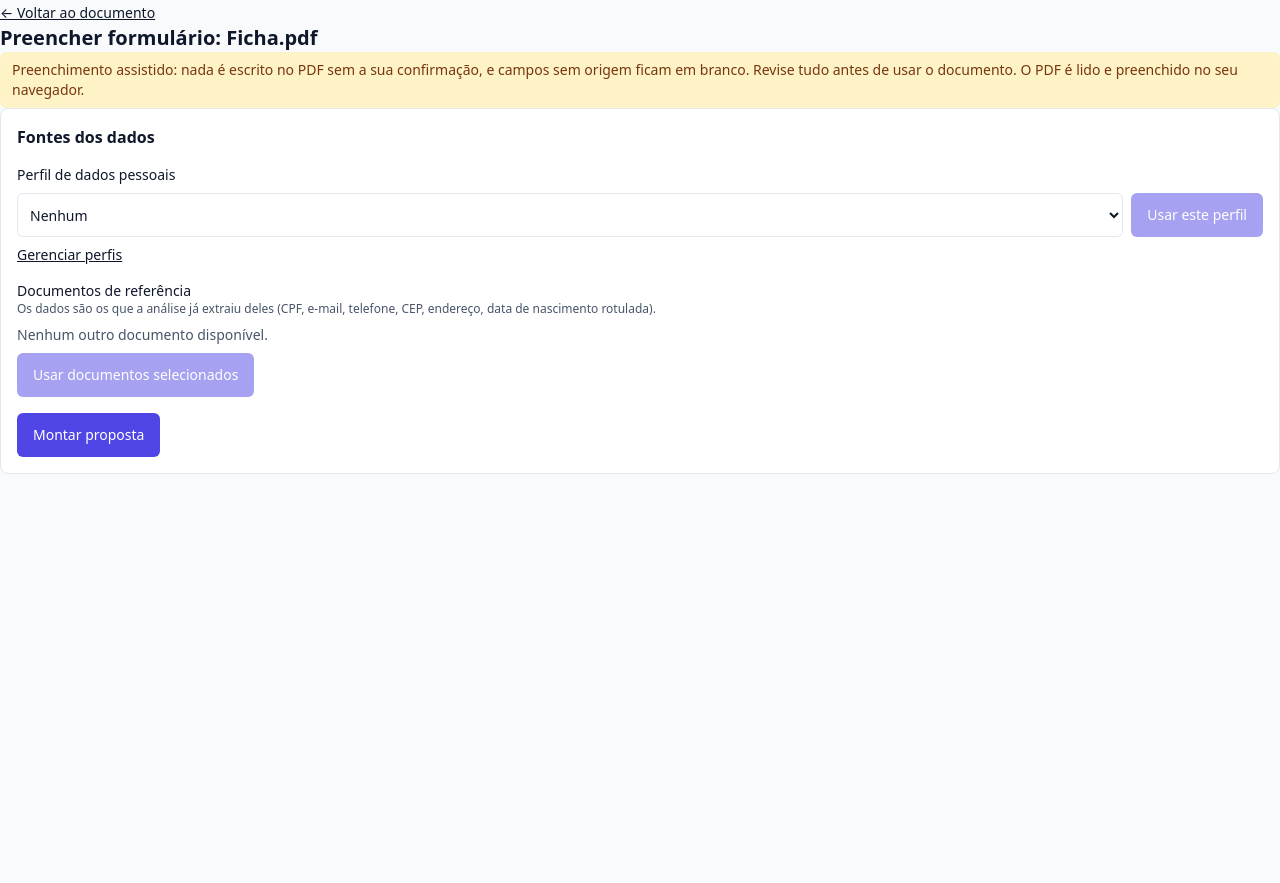
Test: FillFormPage › digitar um valor inválido não confirma; válido entra com origem manual
The image size is (1280, 883).
Expected: the heading "Fontes dos dados" is shown, [17,126,155,148]
Select "Pessoal" in the dropdown labelled "Perfil de dados pessoais" at (570, 215), box [17,193,1123,237]
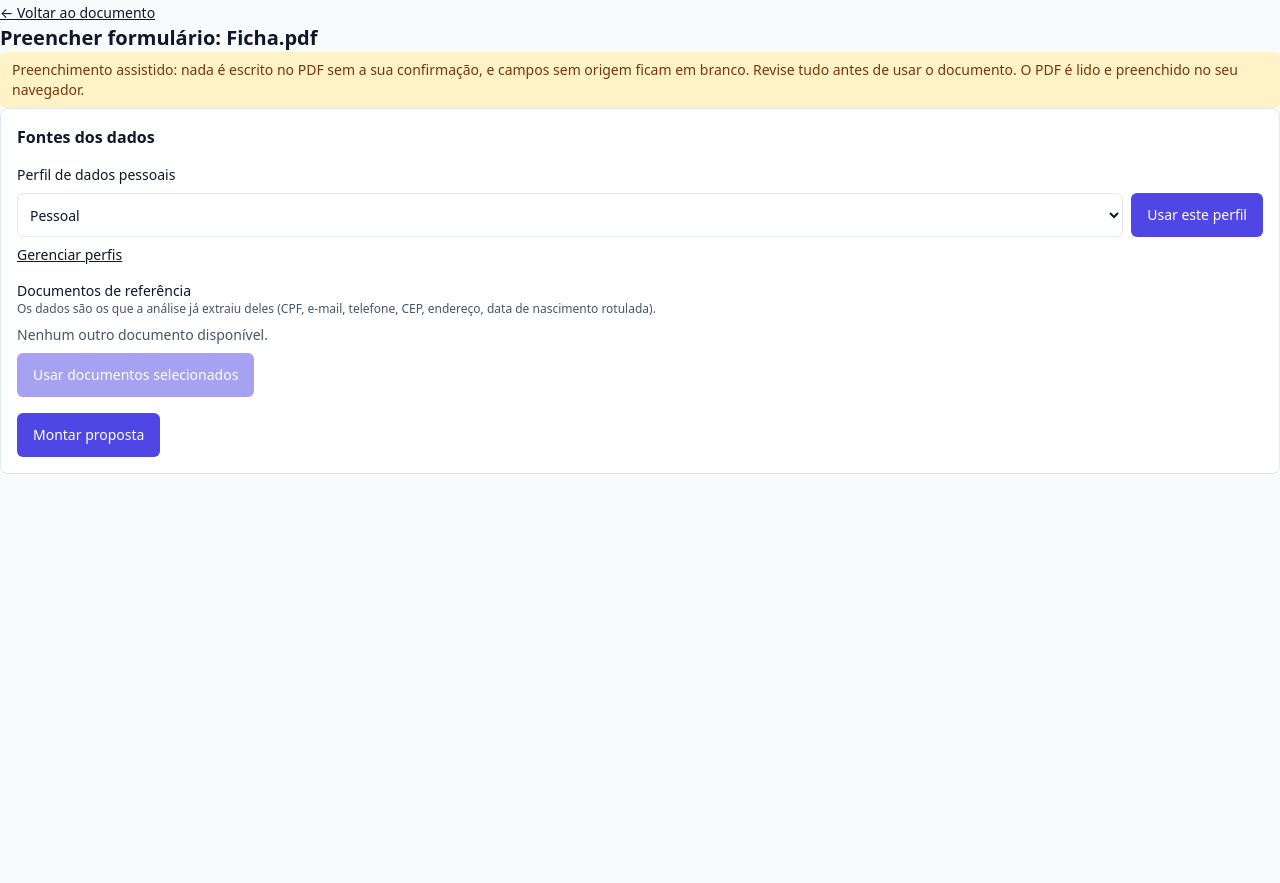
Click the button "Usar este perfil" at (1197, 215), box [1131,193,1263,237]
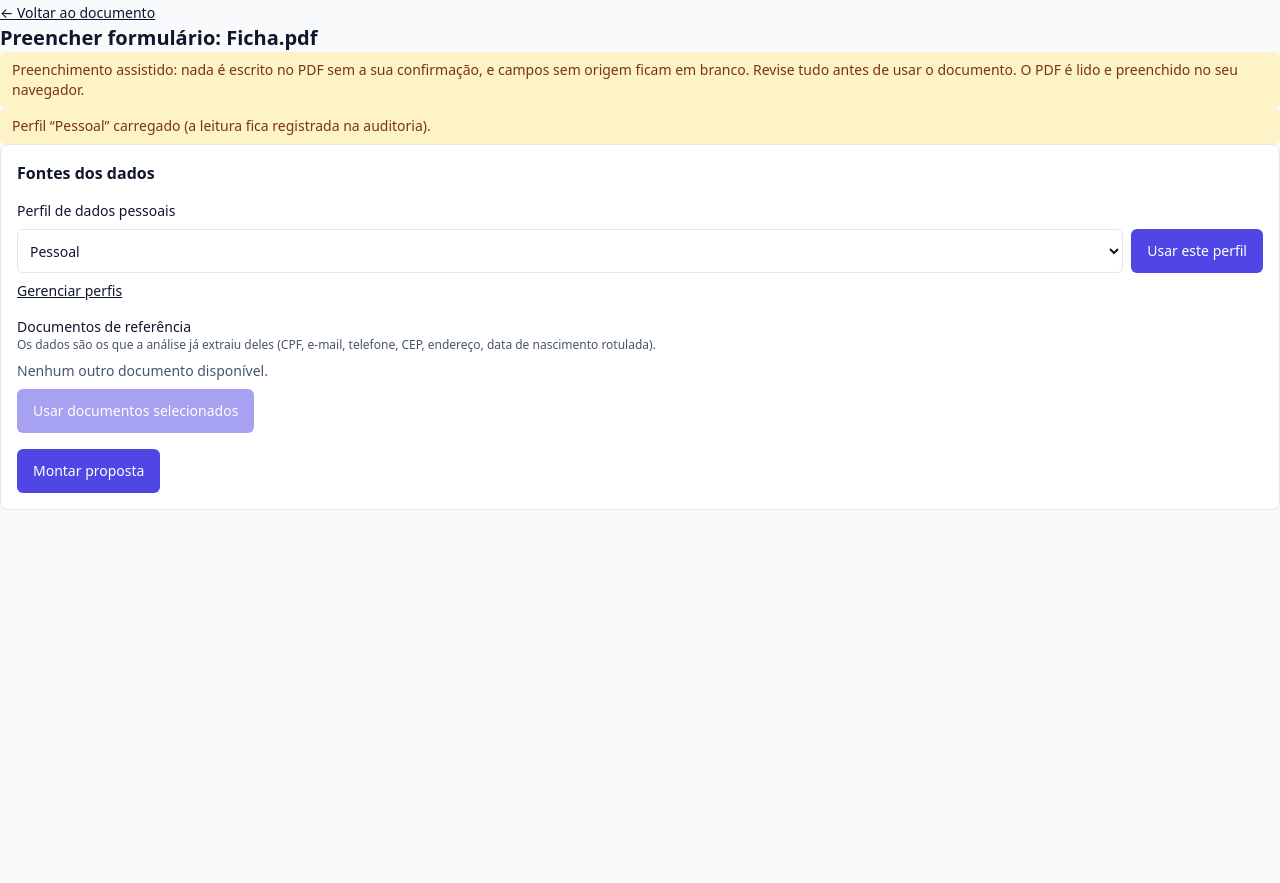
Result: the text "Perfil “Pessoal” carregado (a leitura fica registrada na auditoria)." is shown at [0,108,1279,144]
Click the button "Montar proposta" at (89, 471), box [17,449,160,493]
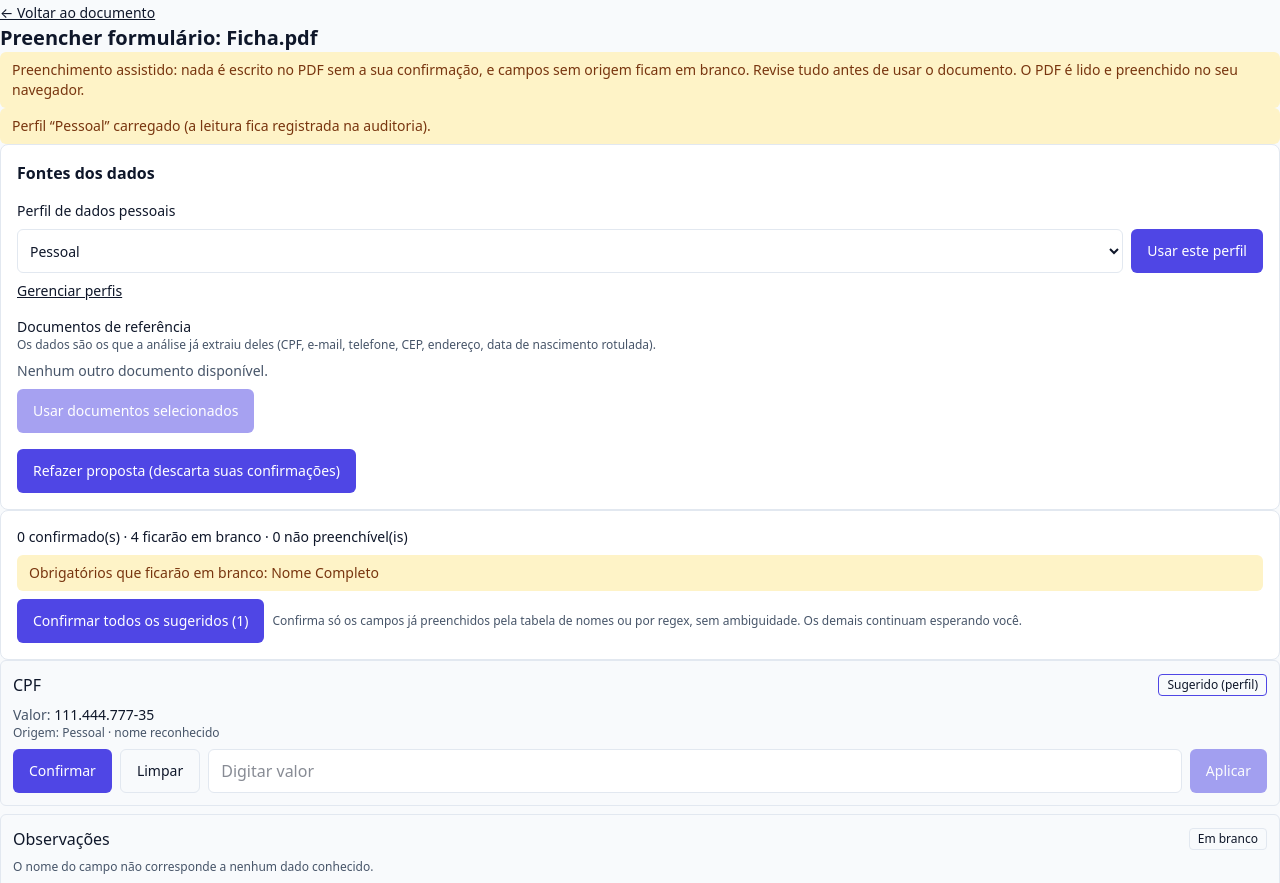
Type "111.444.777-36" into the field named "Digitar valor: CPF" at (695, 771), box [208,749,1182,793]
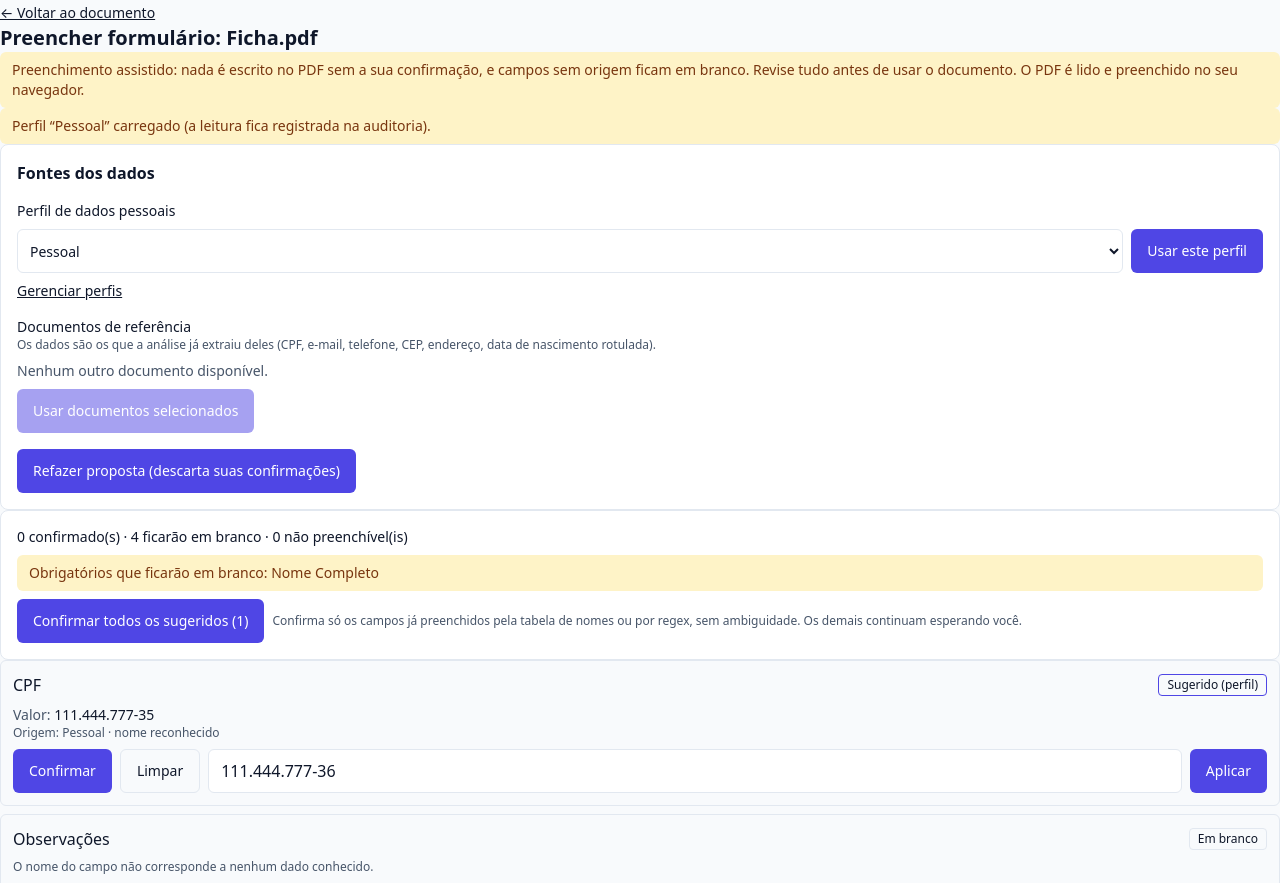
Click the button "Aplicar" below "Sugerido (perfil)" at (1228, 771), box [1190,749,1267,793]
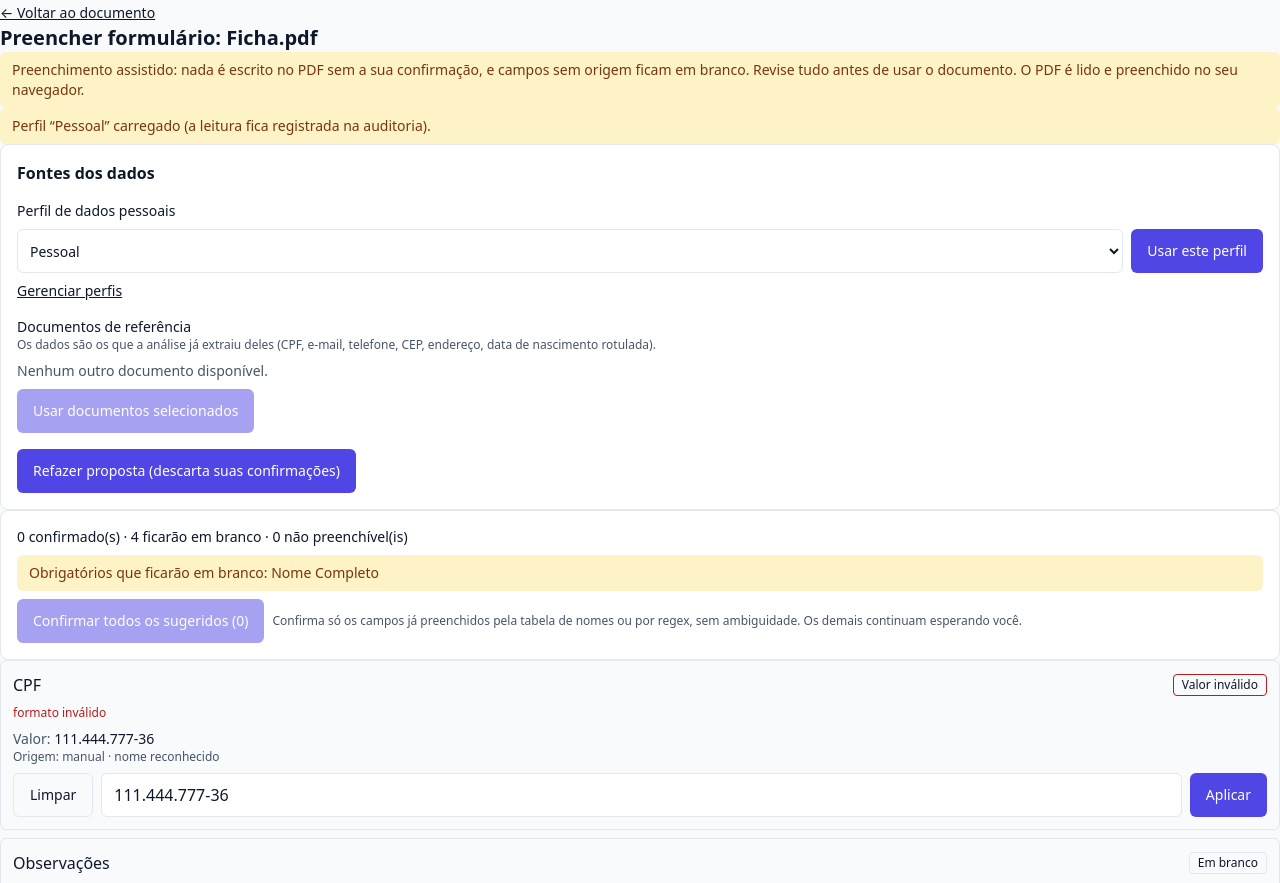
Result: the text "formato inválido" is shown at [13,704,106,721]
Replace the text in the field named "Digitar valor: CPF" with "111.444.777-35" at (642, 795), box [101,773,1182,817]
Click the button "Aplicar" at (1228, 795), box [1190,773,1267,817]
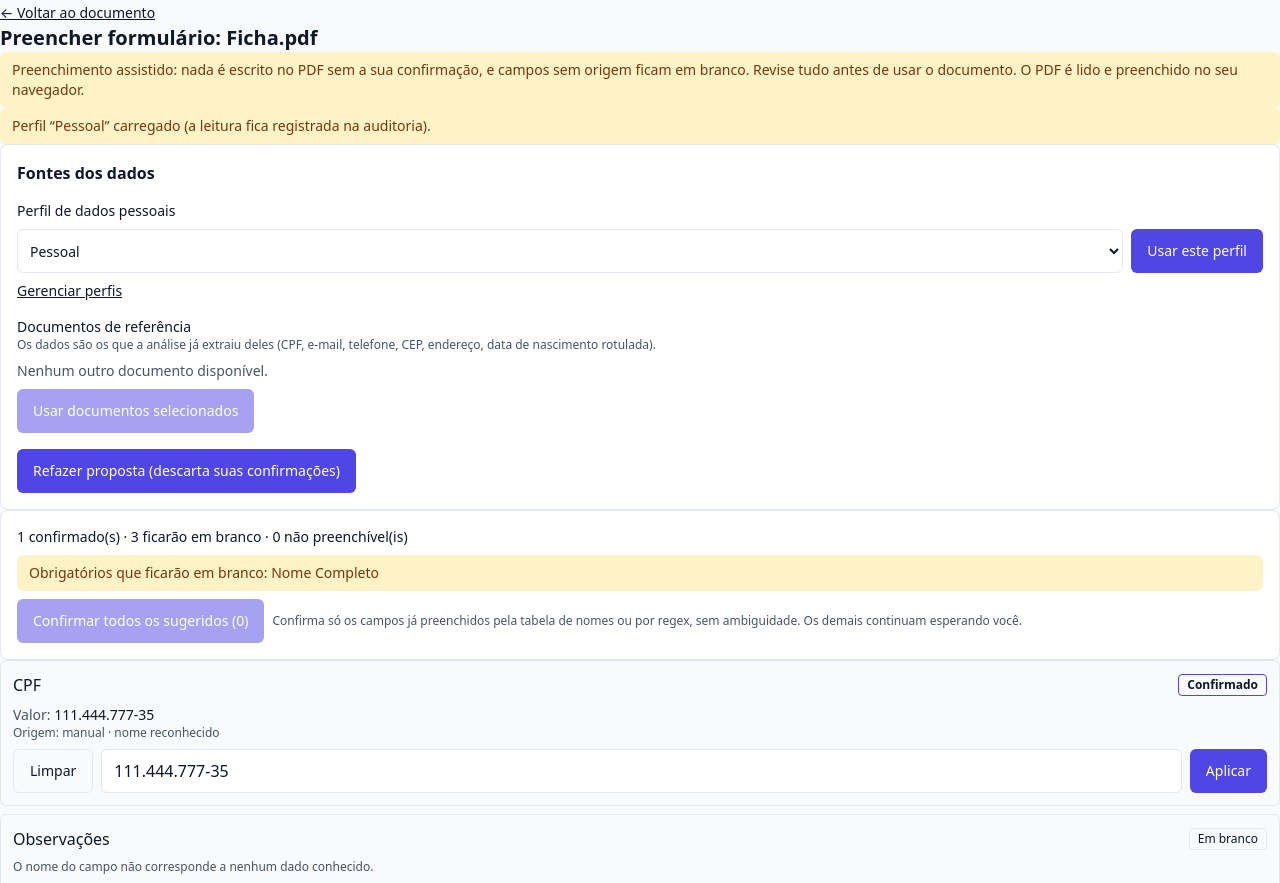
Result: the text "Origem: manual · nome reconhecido" is shown at [13,724,220,741]
Result: the text "Confirmado" is shown at [1178,674,1267,696]
